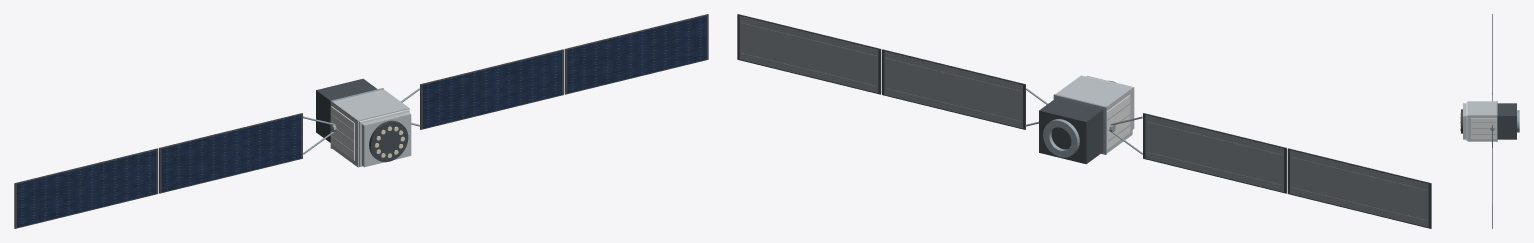
Rendered from ref-ssl-500-58698.glb.
3 views of the same model, side by side, from view 1: azimuth 30°, elevation 25°; view 2: azimuth 150°, elevation 25°; view 3: azimuth 270°, elevation 25° (orthographic). The views are drawn at different scales.
Visible parts, largest first — view 1: Solar cell panel (×4), Solar panel frame (×4), Payload module, Service module, Planar antenna aperture, Antenna equipment shelf, Radiator face; view 2: Rear array substrate (×4), Solar panel frame (×4), Service module, Payload module, Radiator face, Launch adapter ring, Module interface; view 3: Service module, Payload module, Radiator face, Antenna equipment shelf, Earth-facing deck, Launch adapter ring, Solar panel frame, Module interface, Planar antenna aperture.
Boxes of the visible parts, x1,y1,x2,y2 form: Solar cell panel (×4): [17, 16, 706, 227]; Solar panel frame (×4): [14, 14, 708, 228]; Payload module: [332, 89, 409, 167]; Service module: [316, 78, 377, 142]; Planar antenna aperture: [369, 120, 408, 162]; Antenna equipment shelf: [361, 112, 411, 167]; Radiator face: [330, 106, 354, 160]; Rear array substrate (×4): [739, 16, 1428, 227]; Solar panel frame (×4): [737, 14, 1431, 228]; Service module: [1039, 98, 1103, 164]; Payload module: [1056, 75, 1132, 153]; Radiator face: [1106, 95, 1130, 149]; Launch adapter ring: [1043, 119, 1079, 157]; Module interface: [1053, 94, 1106, 154]; Service module: [1497, 103, 1516, 139]; Payload module: [1467, 101, 1496, 141]; Radiator face: [1471, 118, 1496, 139]; Antenna equipment shelf: [1463, 103, 1466, 139]; Earth-facing deck: [1466, 102, 1467, 140]; Launch adapter ring: [1517, 110, 1519, 132]; Solar panel frame: [1492, 164, 1492, 228]; Module interface: [1496, 101, 1497, 141]; Planar antenna aperture: [1461, 109, 1462, 133].
Size of the model in its own units: 26.94 by 1.76 by 3.55.
Materials: 7 (1 with a texture image).
